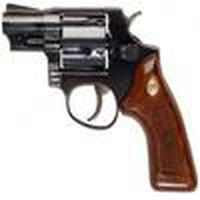gun: (1, 4, 200, 178)
